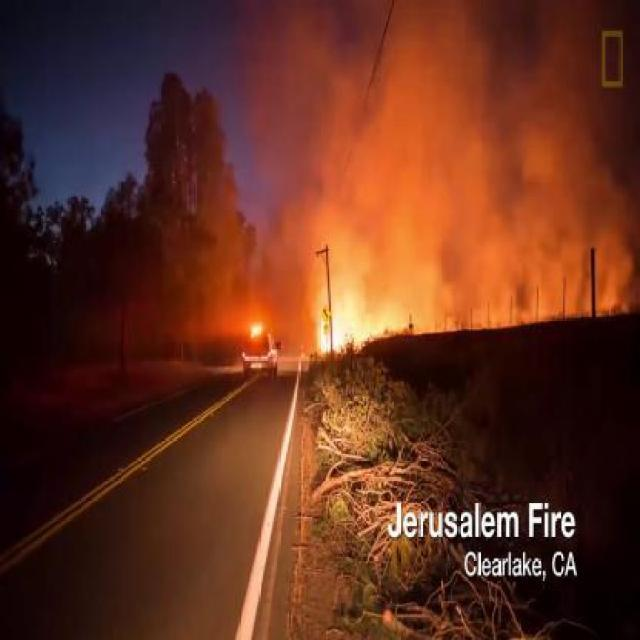Fire: (314, 313, 337, 349)
